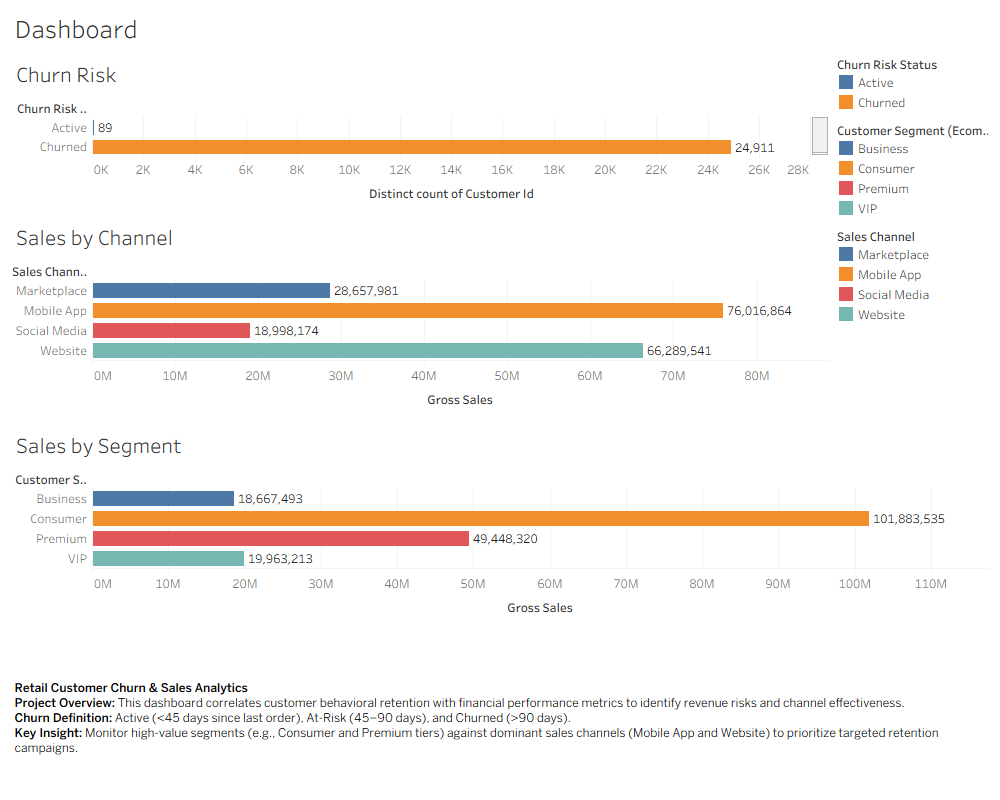

The page's visual inventory and layout, read from the dashboard file:
{"tool":"tableau","page":{"name":"Dashboard","canvas":[1000,800],"ordinal":0},"visuals":[{"type":"worksheet","title":"Churn Risk","mark":"Automatic","rows":["Calculation_1765038688452608"],"cols":["customer_id"],"box":[8,8,824,172]},{"type":"legend","title":"Churn Risk","param":"[federated.0s818571o7bvya13k7rnt0b9wz3j].[none:Calculation_1765038688452608:nk]","box":[832,8,160,66]},{"type":"legend","title":"Sales by Segment","param":"[federated.0s818571o7bvya13k7rnt0b9wz3j].[none:customer_segment (ecommerce_sales","box":[832,74,160,106]},{"type":"worksheet","title":"Sales by Channel","mark":"Automatic","rows":["sales_channel"],"cols":["gross_sales"],"box":[8,180,824,220]},{"type":"legend","title":"Sales by Channel","param":"[federated.0s818571o7bvya13k7rnt0b9wz3j].[none:sales_channel:nk]","box":[832,180,160,106]},{"type":"worksheet","title":"Sales by Segment","mark":"Automatic","rows":["customer_segment (ecommerce_sales_customer_analytics_150k.cs"],"cols":["gross_sales"],"box":[8,400,984,240]},{"type":"text","box":[8,640,984,152]}]}

Visuals, with their boxes in screenshot pixels (x1, y1, x2, y2), scaled from the page's 1000x800 canvas onto the 1000x800 screenshot:
"Churn Risk" worksheet: (8, 8, 832, 180)
"Churn Risk" legend: (832, 8, 992, 74)
"Sales by Segment" legend: (832, 74, 992, 180)
"Sales by Channel" worksheet: (8, 180, 832, 400)
"Sales by Channel" legend: (832, 180, 992, 286)
"Sales by Segment" worksheet: (8, 400, 992, 640)
text: (8, 640, 992, 792)
